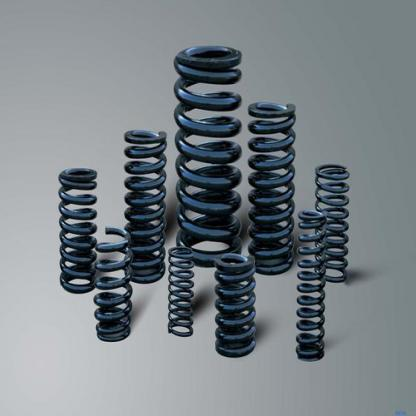FOD: (172, 37, 244, 268), (246, 96, 299, 278), (121, 125, 169, 287), (56, 162, 100, 297), (294, 208, 330, 364), (93, 225, 136, 345), (213, 250, 258, 362), (313, 160, 352, 288), (166, 244, 198, 342)
